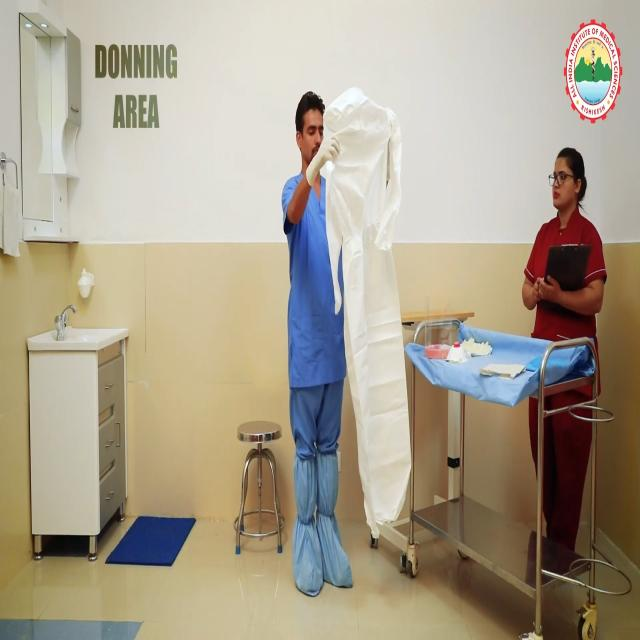Gloves: (309, 136, 343, 185)
